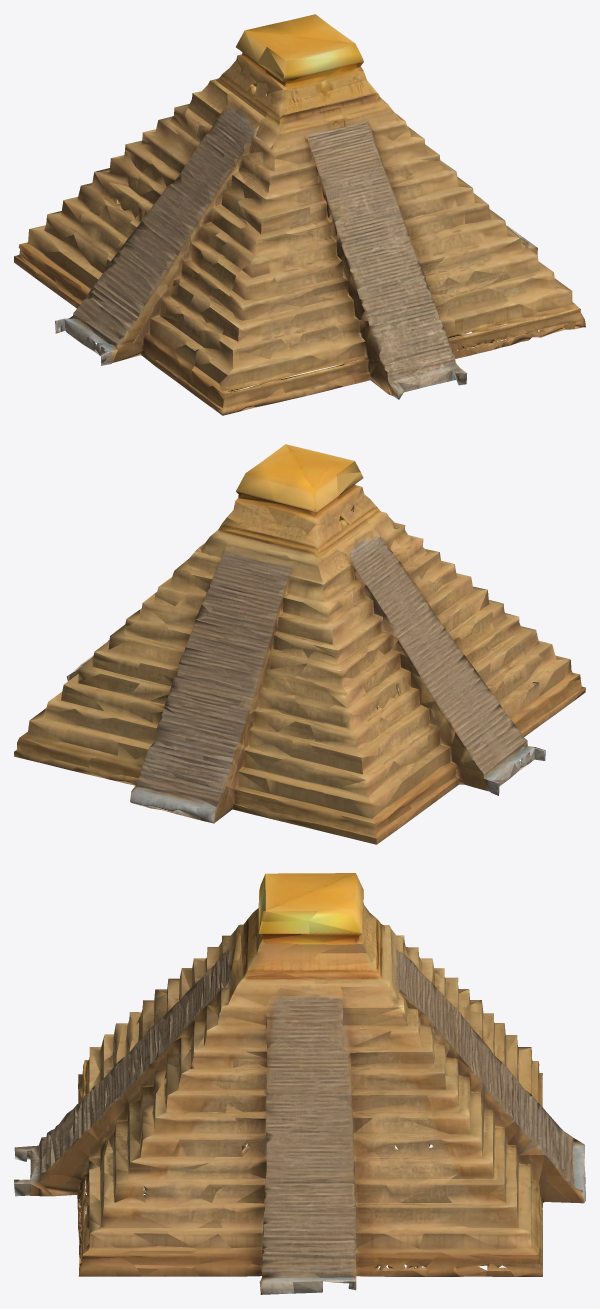
Rendered from temple__step-pyramid_egyptian.glb.
3 views of the same model, one above another, from view 1: azimuth 30°, elevation 25°; view 2: azimuth 150°, elevation 25°; view 3: azimuth 270°, elevation 25° (orthographic). The views are drawn at different scales.
Bounding box in the file's own units: 1.96 × 1.11 × 2.
Materials: 1 (1 with a texture image).
